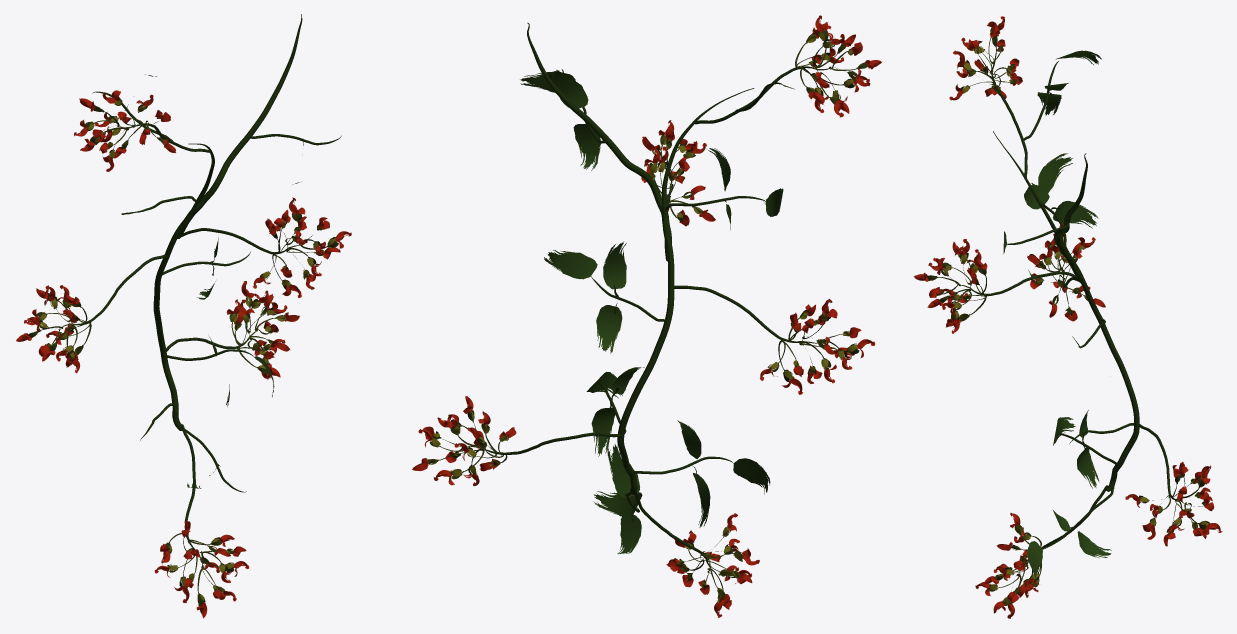
The model's file is ForestFlame5.glb.
The picture shows the model from 3 angles, left to right: view 1: azimuth 30°, elevation 25°; view 2: azimuth 150°, elevation 25°; view 3: azimuth 270°, elevation 25°; orthographic projection. The views are drawn at different scales.
Visible parts, largest first — view 1: brush_TaperedFlat_g1_b0_1, brush_Wire_g1_b0_6, brush_DoubleTaperedFlat_g1_b0_4, brush_Ink_g1_b0_5; view 2: brush_Ink_g1_b0_5, brush_TaperedFlat_g1_b0_1, brush_Wire_g1_b0_6, brush_DoubleTaperedFlat_g1_b0_4; view 3: brush_Ink_g1_b0_5, brush_TaperedFlat_g1_b0_1, brush_Wire_g1_b0_6, brush_DoubleTaperedFlat_g1_b0_4.
Part boxes in pixels (x1,y1,x2,y2): brush_TaperedFlat_g1_b0_1: [16, 90, 351, 618]; brush_Wire_g1_b0_6: [62, 14, 341, 566]; brush_DoubleTaperedFlat_g1_b0_4: [28, 97, 338, 605]; brush_Ink_g1_b0_5: [30, 74, 336, 601]; brush_Ink_g1_b0_5: [427, 32, 865, 603]; brush_TaperedFlat_g1_b0_1: [412, 15, 882, 617]; brush_Wire_g1_b0_6: [467, 22, 828, 566]; brush_DoubleTaperedFlat_g1_b0_4: [428, 30, 868, 598]; brush_Ink_g1_b0_5: [928, 29, 1208, 604]; brush_TaperedFlat_g1_b0_1: [913, 16, 1222, 618]; brush_Wire_g1_b0_6: [961, 61, 1184, 573]; brush_DoubleTaperedFlat_g1_b0_4: [927, 27, 1209, 605].
Bounding box in the file's own units: 0.4513 × 0.706 × 0.3631.
Materials: 4 (2 with a texture image).
